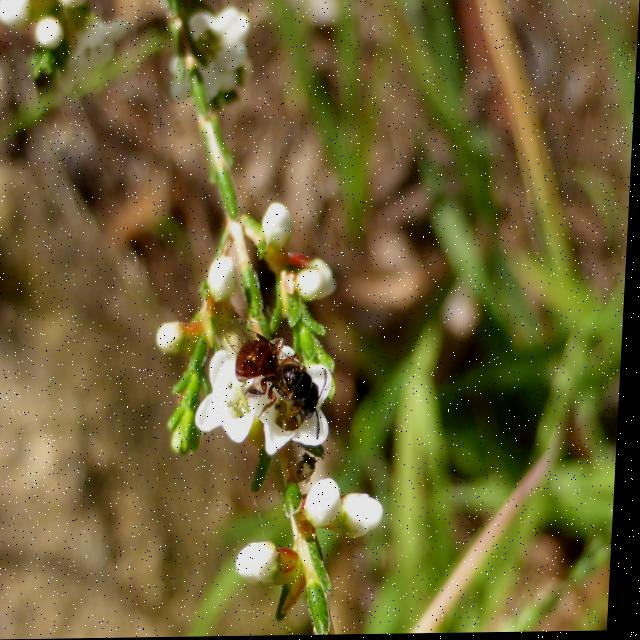Braunsapis: (215, 309, 355, 459)
